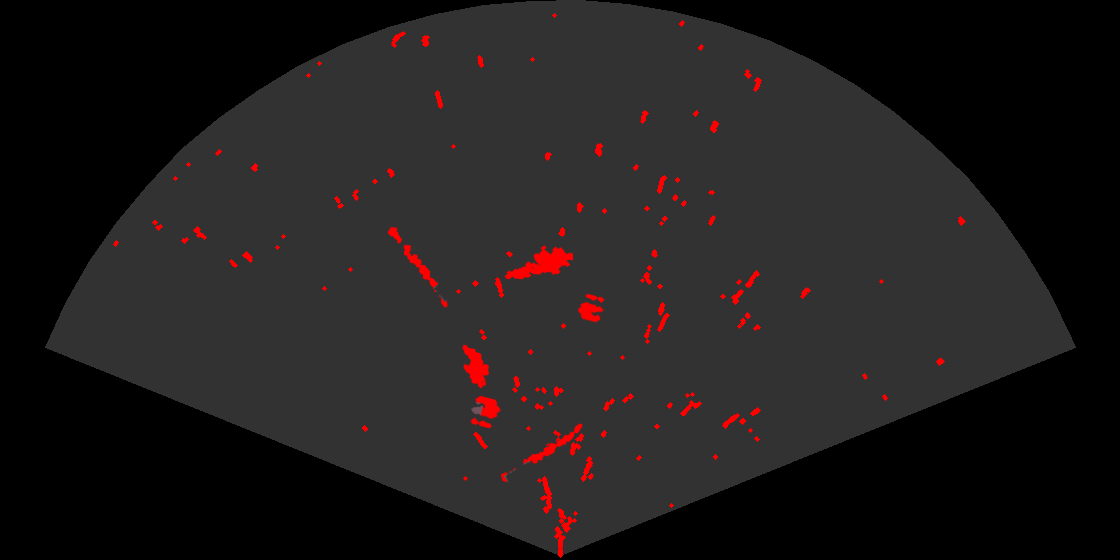AUV: (461, 343, 491, 390)
ball: (469, 394, 502, 430), (576, 292, 606, 324)
chain: (386, 225, 449, 309), (499, 422, 584, 484)
frogman: (503, 244, 573, 281)
